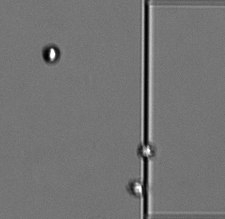Living Cell: (41, 42, 62, 66), (137, 141, 157, 161), (125, 179, 147, 197)
